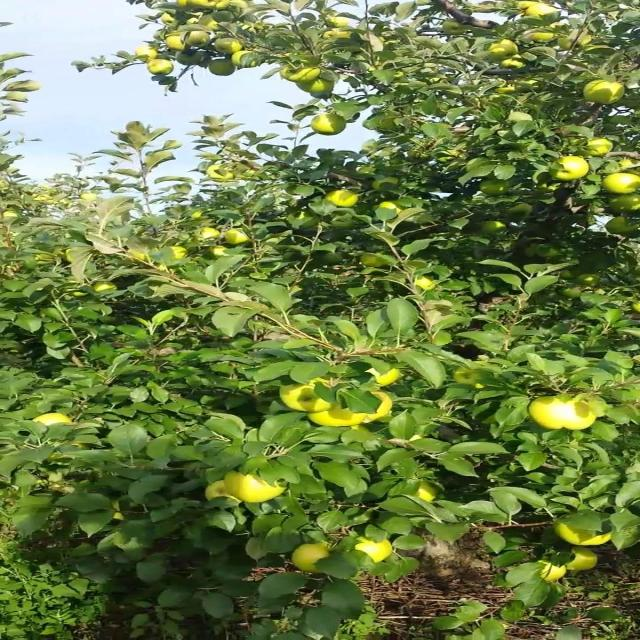apple: (529, 396, 596, 430), (224, 471, 284, 502), (280, 378, 333, 412), (553, 522, 611, 546), (291, 542, 329, 572), (309, 408, 367, 426), (584, 80, 624, 104), (551, 156, 589, 181), (364, 390, 393, 422), (564, 546, 598, 571), (356, 538, 391, 562), (602, 172, 640, 194), (311, 114, 347, 135), (204, 481, 240, 502), (604, 216, 638, 236), (280, 66, 322, 82), (453, 368, 484, 389), (324, 189, 358, 208), (367, 368, 402, 386), (296, 78, 333, 94), (540, 561, 567, 582), (231, 50, 264, 67), (33, 412, 73, 426), (360, 252, 393, 268), (487, 39, 518, 56), (478, 179, 509, 196), (609, 194, 640, 211), (524, 2, 558, 17), (207, 59, 236, 76), (207, 164, 236, 181), (231, 162, 260, 179), (587, 138, 613, 156), (213, 38, 242, 54), (416, 481, 438, 502), (176, 50, 204, 66), (184, 30, 211, 46), (442, 19, 469, 35), (484, 45, 509, 62), (7, 80, 42, 92), (147, 59, 173, 75), (371, 176, 400, 190), (313, 251, 342, 265), (133, 45, 158, 61), (224, 229, 249, 245), (507, 202, 533, 217), (164, 34, 187, 50), (378, 200, 404, 214), (513, 79, 540, 92), (480, 220, 507, 232), (413, 276, 436, 290), (198, 14, 218, 30), (322, 28, 351, 39), (327, 15, 351, 28), (573, 32, 593, 47), (529, 31, 556, 42), (91, 281, 118, 292), (0, 91, 27, 102), (500, 56, 524, 68), (198, 228, 220, 240), (578, 274, 600, 286), (127, 249, 149, 261), (33, 192, 56, 203), (513, 0, 538, 10), (170, 246, 189, 259), (187, 0, 216, 8), (618, 158, 638, 169), (209, 245, 227, 257), (496, 84, 516, 94), (160, 12, 176, 24), (558, 36, 571, 50), (80, 191, 98, 201), (67, 289, 87, 298), (187, 12, 201, 24), (213, 0, 231, 9), (560, 270, 576, 279), (229, 0, 249, 7), (176, 0, 189, 8), (191, 210, 201, 219)
